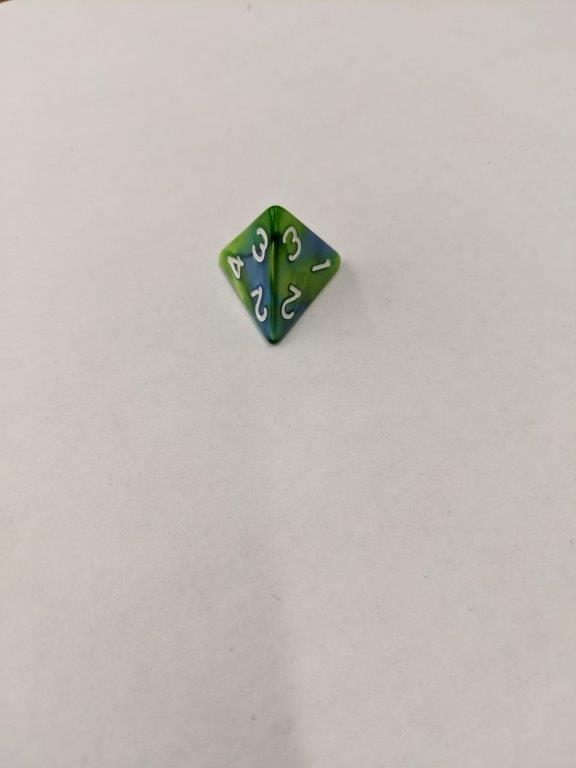d4-3: (216, 205, 343, 348)
